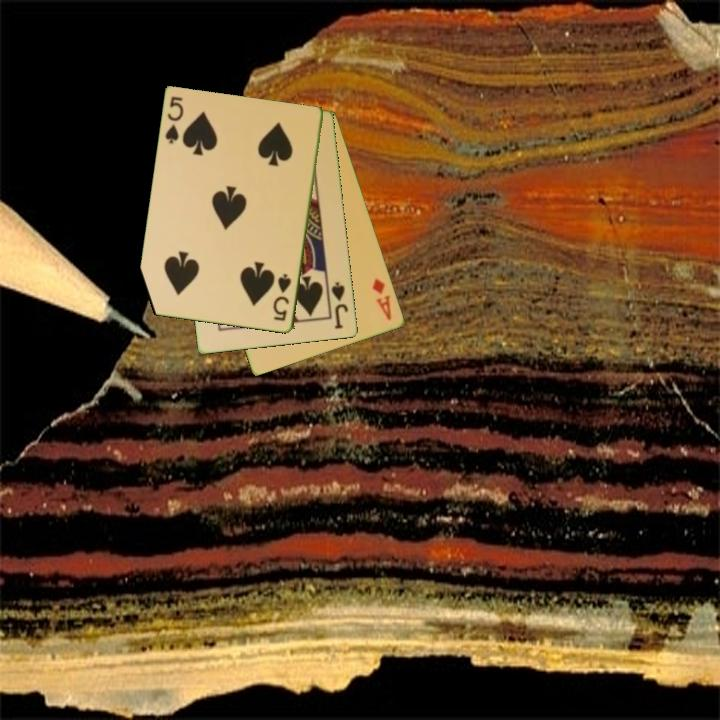5s: (162, 93, 187, 147), (270, 270, 294, 324)
Ad: (369, 275, 395, 323)
Js: (328, 278, 351, 332)
